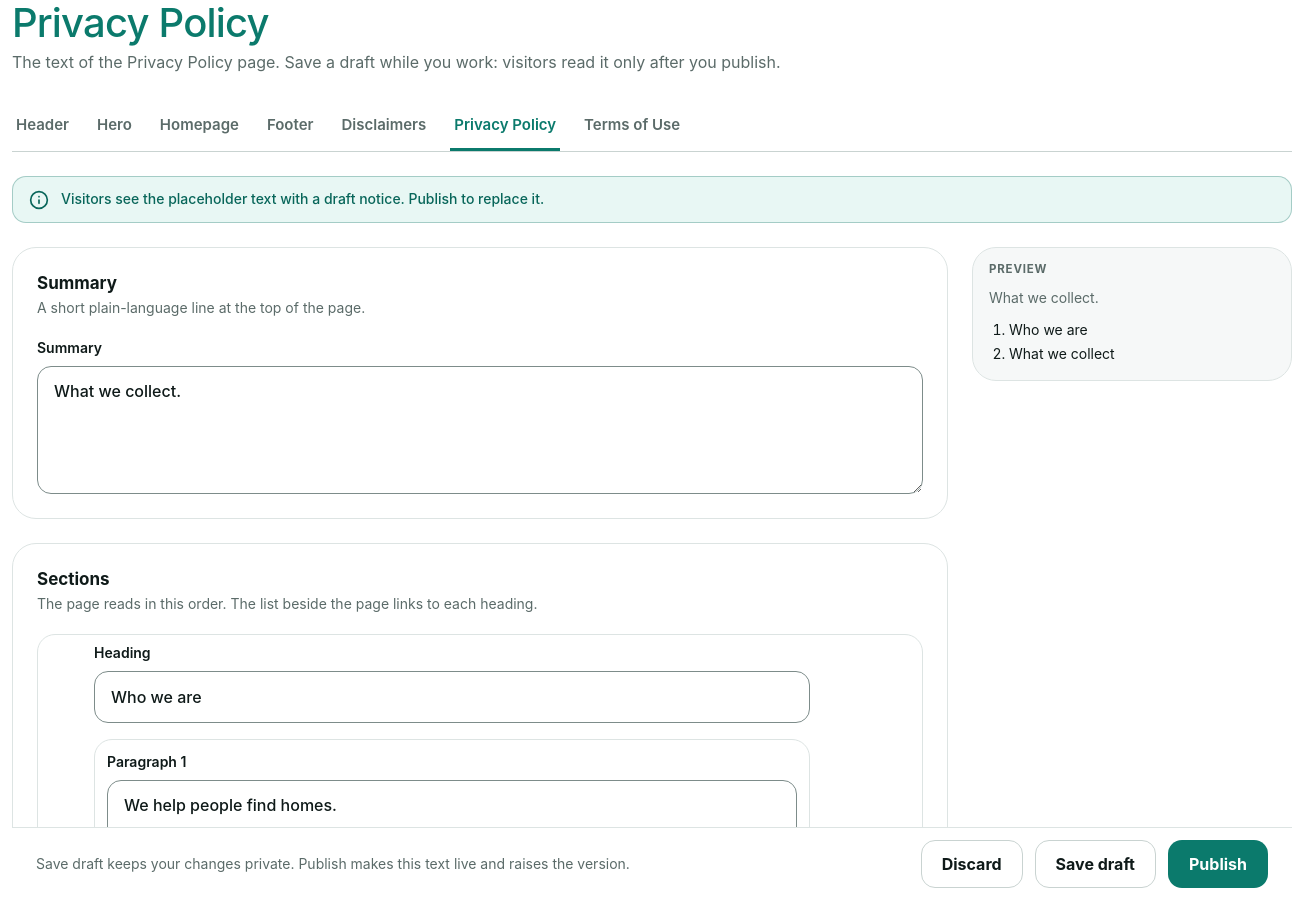
it: UT-legal-form-screen: the Privacy Policy and Terms of Use pages (ADR-151, part C) › puts the server's problems on the boxes they belong to and says how many
This screenshot has width=1292, height=900.
Click the button "Publish".
click(1218, 864)  # box [1168,840,1268,888]
(page scrolled)
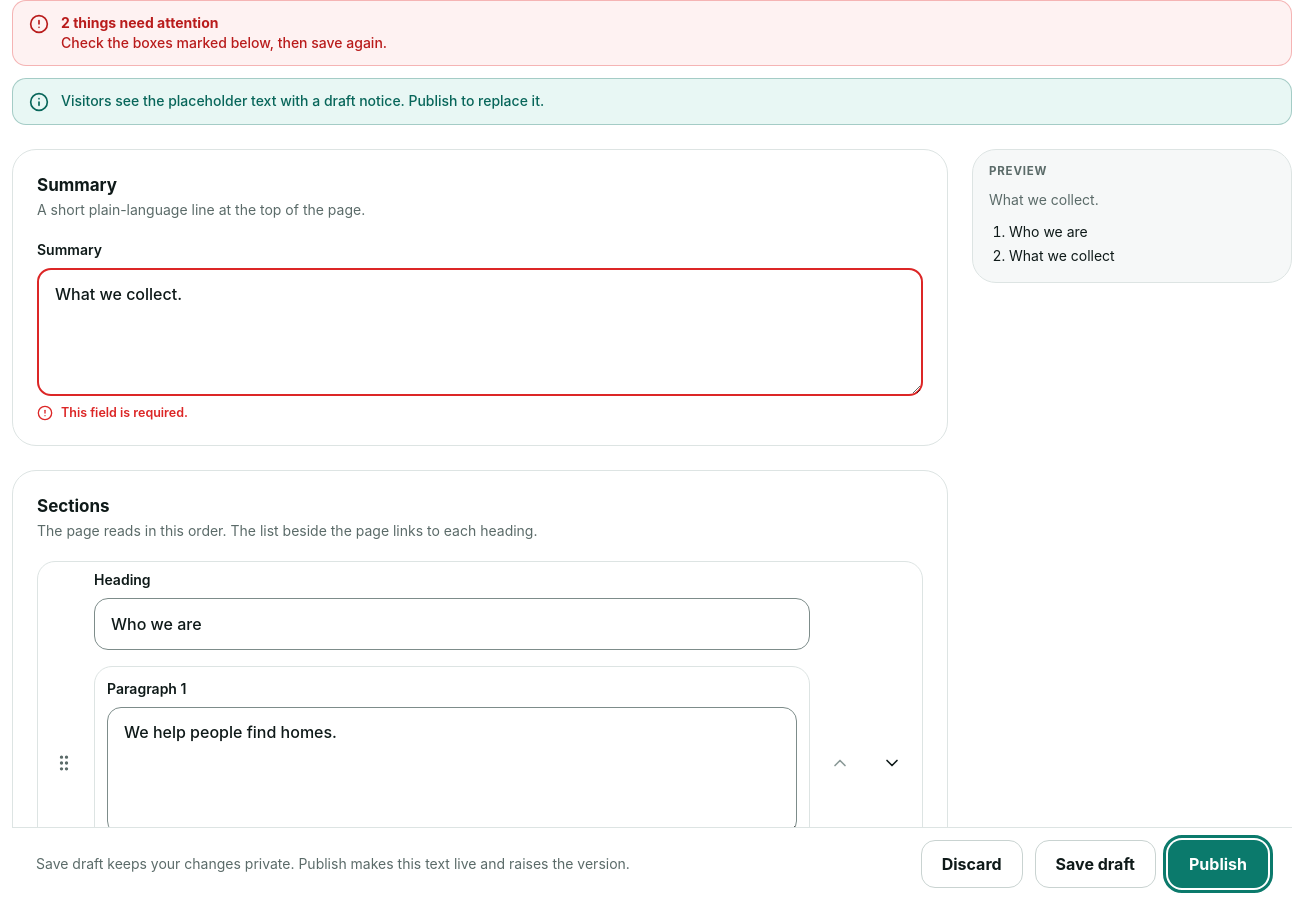
Check: the text "2 things need attention" is shown, box [61,14,218,31]
